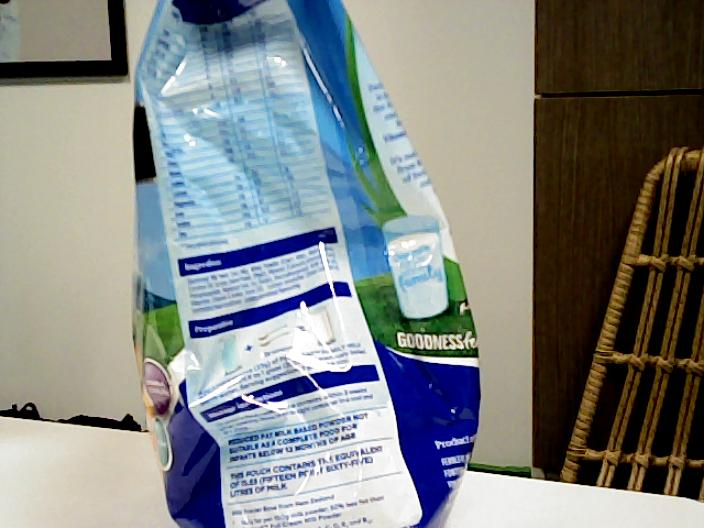Adult_Milk_1000-1999g_Halal_NonHealthy: (131, 1, 483, 528)
